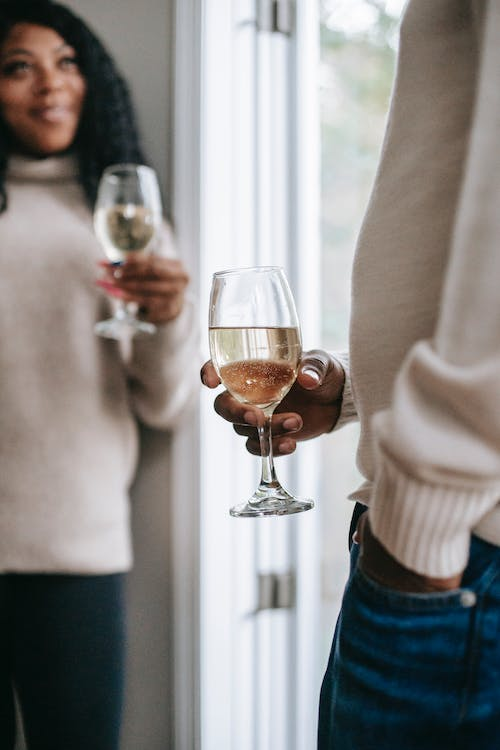alcohol: (206, 263, 316, 521), (90, 163, 165, 341)
